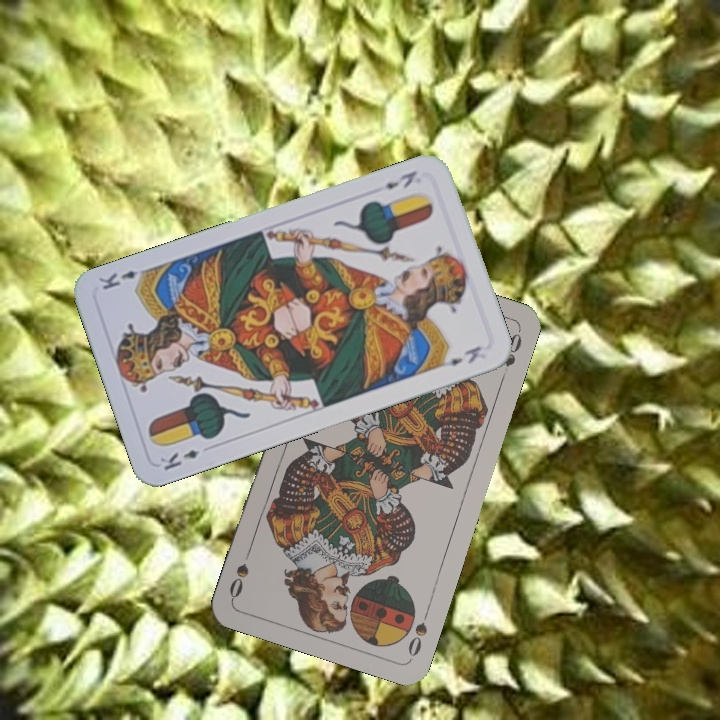EK: (155, 445, 201, 473), (380, 166, 420, 192)
SO: (404, 603, 433, 659)
